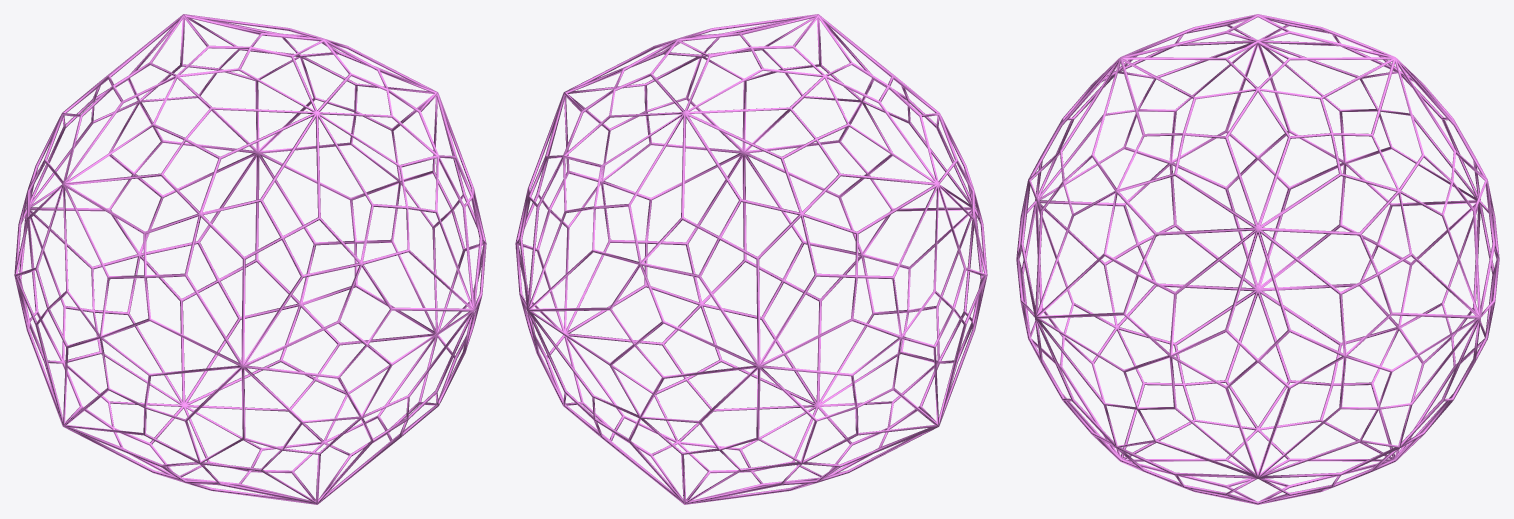
Rendered from JoinedTruncatedIcosidodecahedron1.glb.
3 renders of one model, left to right at view 1: azimuth 30°, elevation 25°; view 2: azimuth 150°, elevation 25°; view 3: azimuth 270°, elevation 25°, orthographic. The views are drawn at different scales.
Visible parts, largest first — view 1: JoinedTruncatedIcosidodecahedron; view 2: JoinedTruncatedIcosidodecahedron; view 3: JoinedTruncatedIcosidodecahedron.
Part boxes in pixels (<box>): JoinedTruncatedIcosidodecahedron: <box>14,14,486,504</box>; JoinedTruncatedIcosidodecahedron: <box>515,14,987,504</box>; JoinedTruncatedIcosidodecahedron: <box>1016,14,1499,504</box>.
Bounding box in the file's own units: 7.66 × 7.66 × 7.66.
